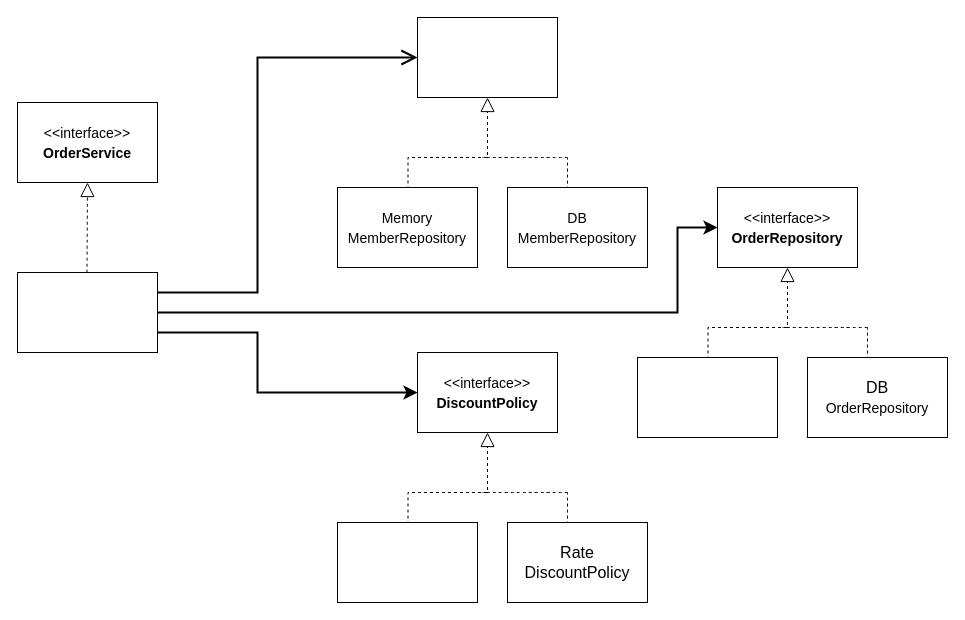
Some shapes in this 965 by 620 pixel diagram are drawn without their labels. Each missing label, with the centre of its shape:
"<<interface>> MemberRepository" goes at pixel 487 57.
"Fix DiscountPolicy" goes at pixel 407 562.
"Memory OrderRepository" goes at pixel 707 397.
"OrderServiceImpl" goes at pixel 87 312.
